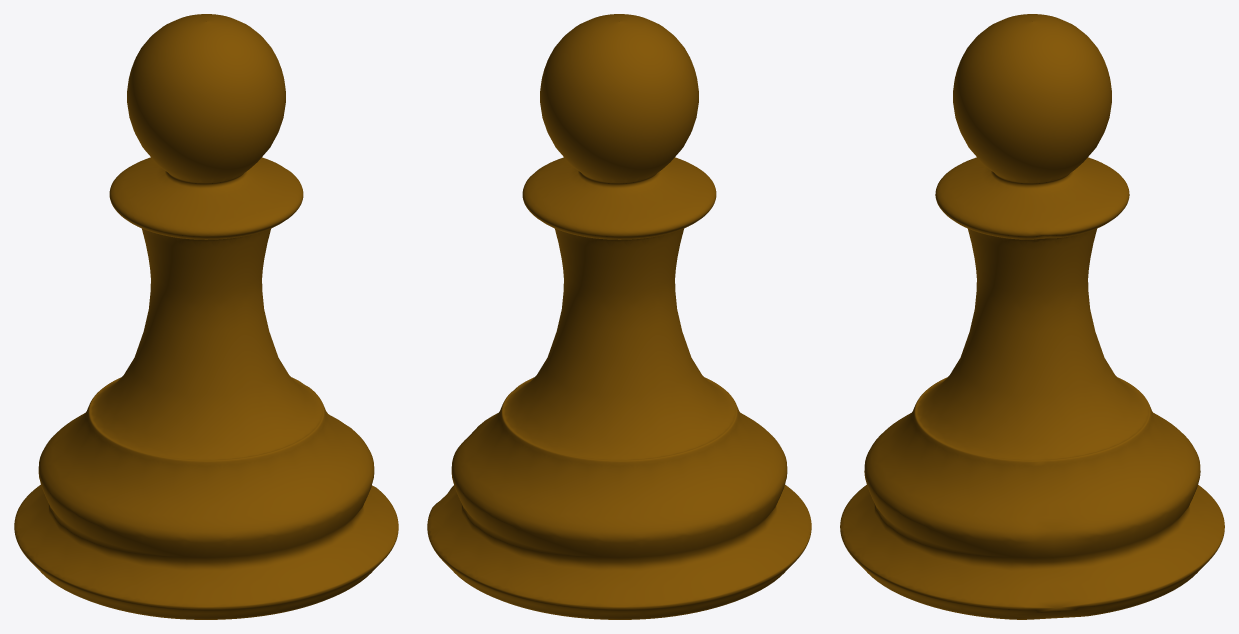
Rendered from pawn.fbx.
The picture shows the model from 3 angles, left to right: view 1: azimuth 30°, elevation 25°; view 2: azimuth 150°, elevation 25°; view 3: azimuth 270°, elevation 25°; orthographic projection.
Parts seen in each view (by area): view 1: pawn_0001:nurbsToPoly1; view 2: pawn_0001:nurbsToPoly1; view 3: pawn_0001:nurbsToPoly1.
Boxes of the visible parts, bbox=[...] form: pawn_0001:nurbsToPoly1: bbox=[14, 14, 398, 619]; pawn_0001:nurbsToPoly1: bbox=[427, 14, 811, 619]; pawn_0001:nurbsToPoly1: bbox=[840, 14, 1224, 619].
Size of the model in its own units: 3.53 by 5.35 by 3.53.
